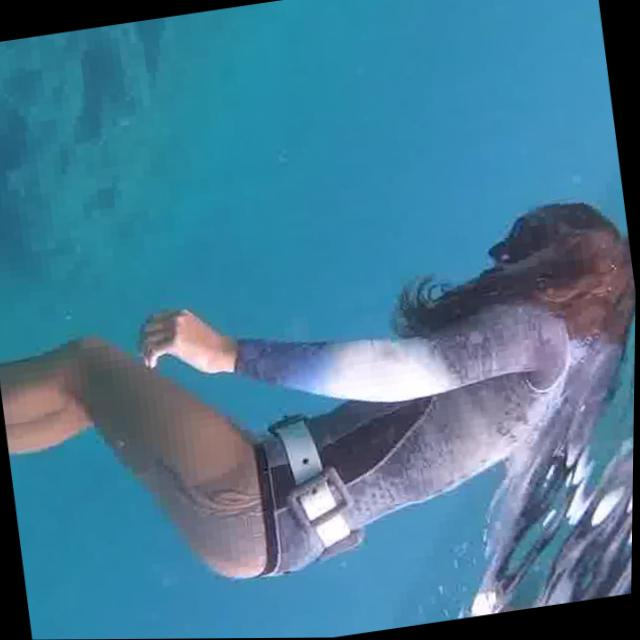human: (0, 185, 638, 629)
